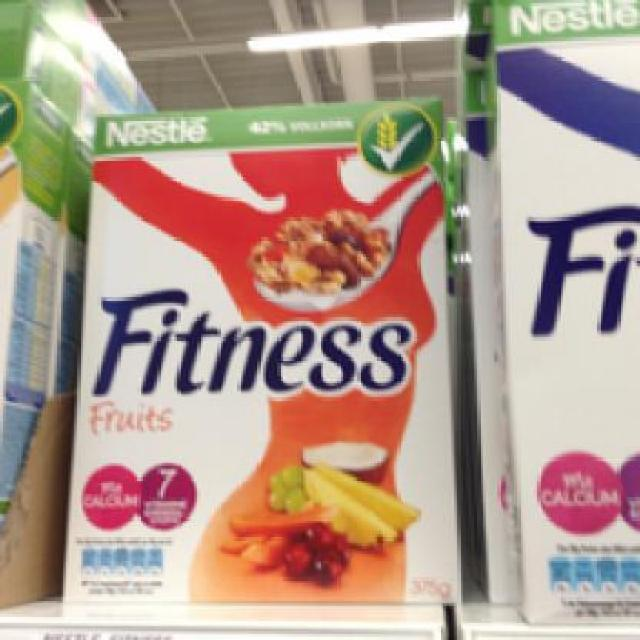Cereal: (54, 90, 460, 606), (485, 0, 638, 620)
